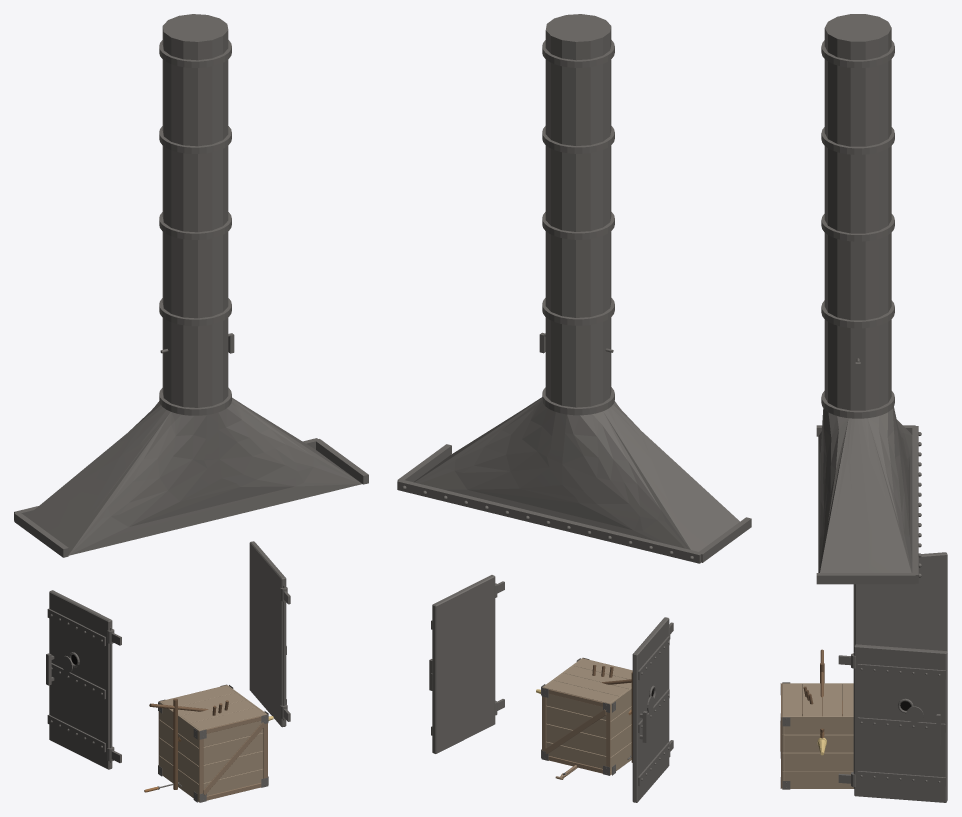
Rendered from smelter_kit.glb.
3 renders of one model, left to right at view 1: azimuth 30°, elevation 25°; view 2: azimuth 150°, elevation 25°; view 3: azimuth 270°, elevation 25°, orthographic.
Visible parts, largest first — view 1: Kit_FurnaceHood_geo, Kit_FurnaceDoors_geo, Kit_Crate_geo, Kit_Bellows_geo; view 2: Kit_FurnaceHood_geo, Kit_FurnaceDoors_geo, Kit_Crate_geo; view 3: Kit_FurnaceHood_geo, Kit_FurnaceDoors_geo, Kit_Crate_geo, Kit_Bellows_geo.
Boxes of the visible parts, x1,y1,x2,y2 form: Kit_FurnaceHood_geo: [14, 14, 368, 557]; Kit_FurnaceDoors_geo: [46, 541, 290, 769]; Kit_Crate_geo: [158, 684, 268, 802]; Kit_Bellows_geo: [149, 698, 273, 789]; Kit_FurnaceHood_geo: [397, 14, 751, 563]; Kit_FurnaceDoors_geo: [429, 575, 673, 802]; Kit_Crate_geo: [541, 657, 632, 775]; Kit_FurnaceHood_geo: [816, 14, 921, 584]; Kit_FurnaceDoors_geo: [838, 552, 947, 802]; Kit_Crate_geo: [780, 682, 853, 789]; Kit_Bellows_geo: [802, 649, 842, 755].
Size of the model in its own units: 4.46 by 10.42 by 2.09.
